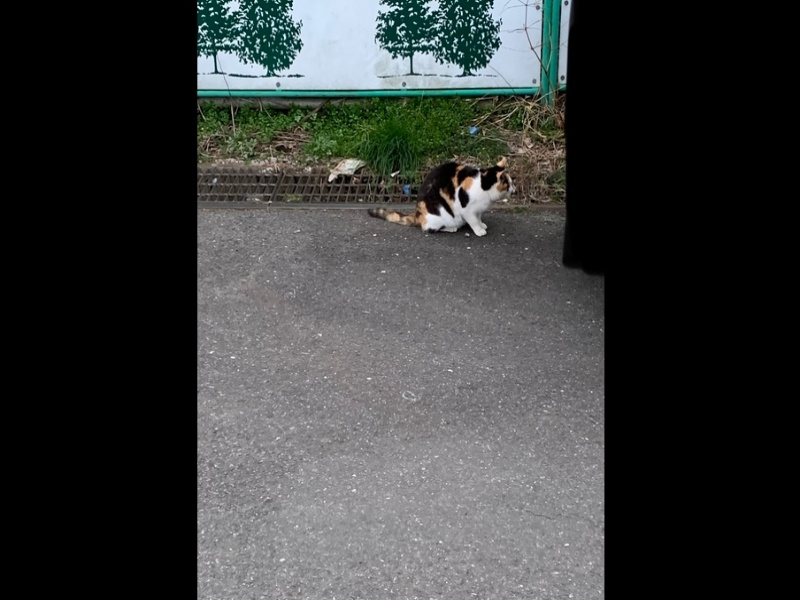cat: (366, 157, 519, 239)
